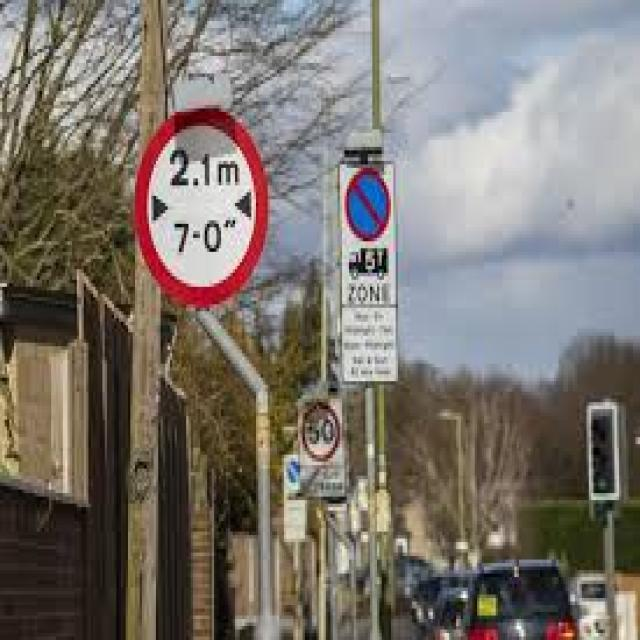width limit: (138, 105, 269, 312)
